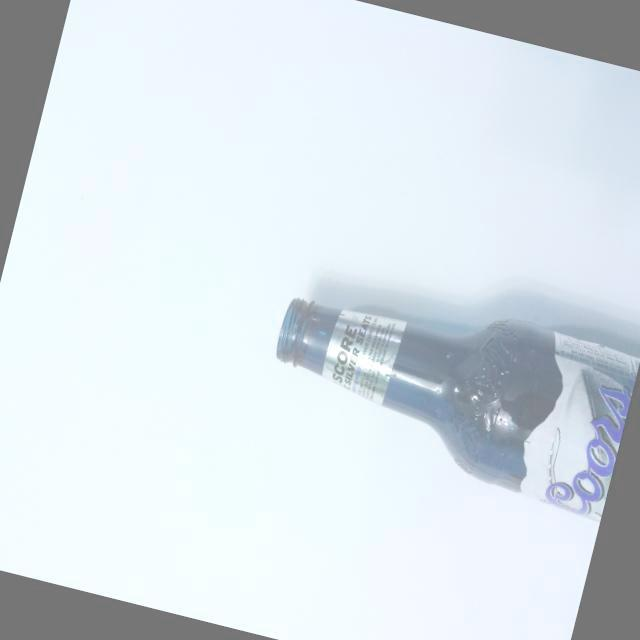glass: (248, 262, 640, 519)
